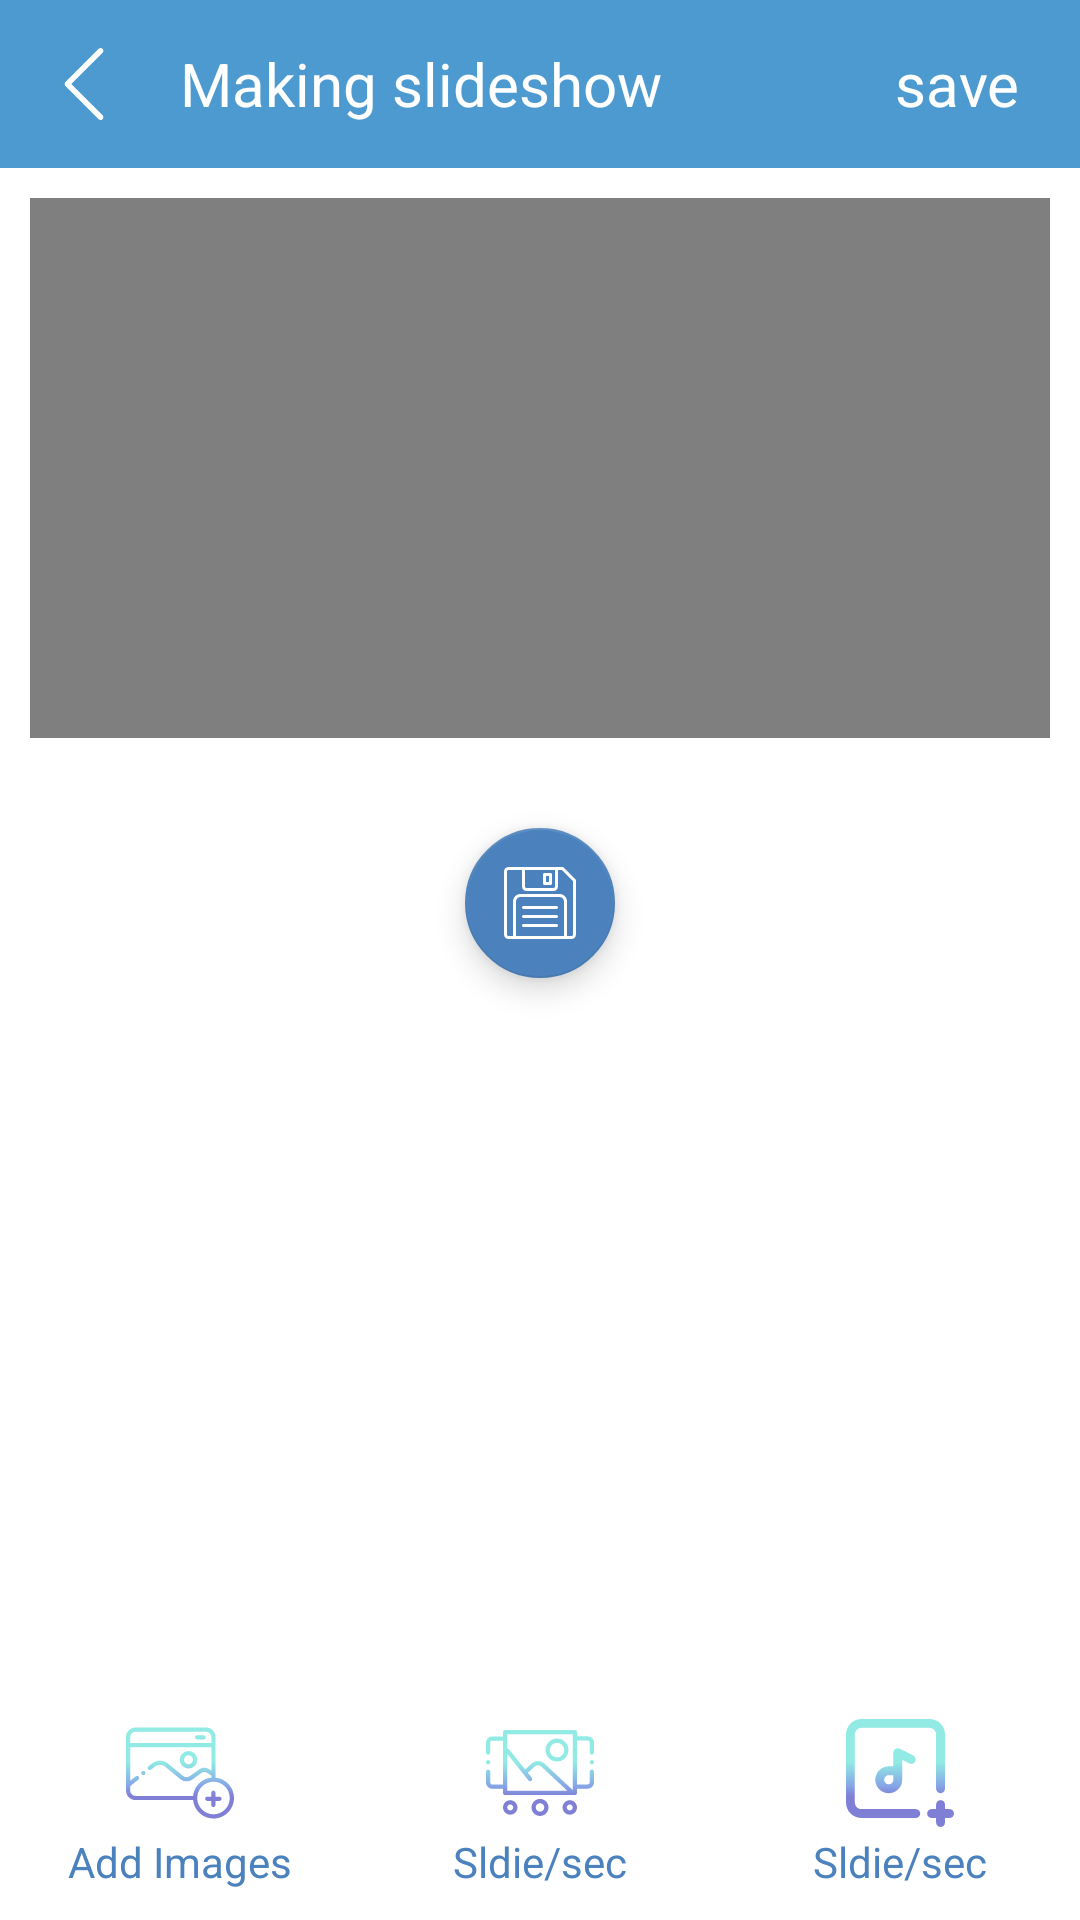

Icon bounding boxes for this 1080x1920 phone screenshot, format (x1,y1,x2,y2):
back: (64,48,104,120)
